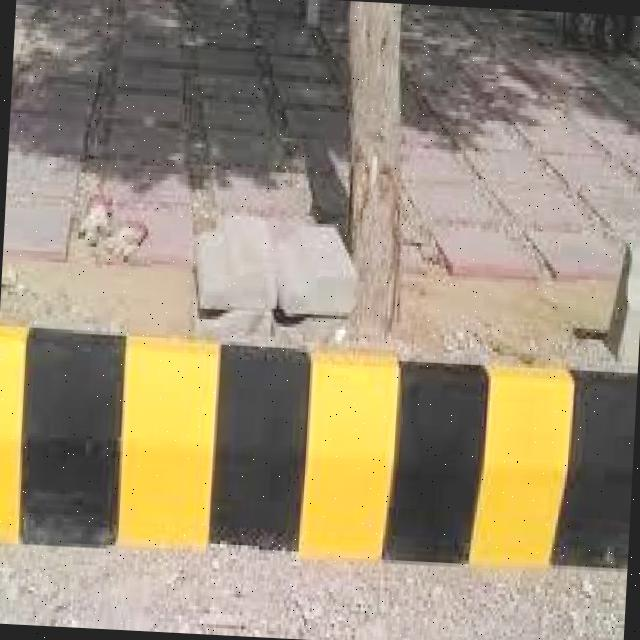curb: (1, 327, 639, 576)
